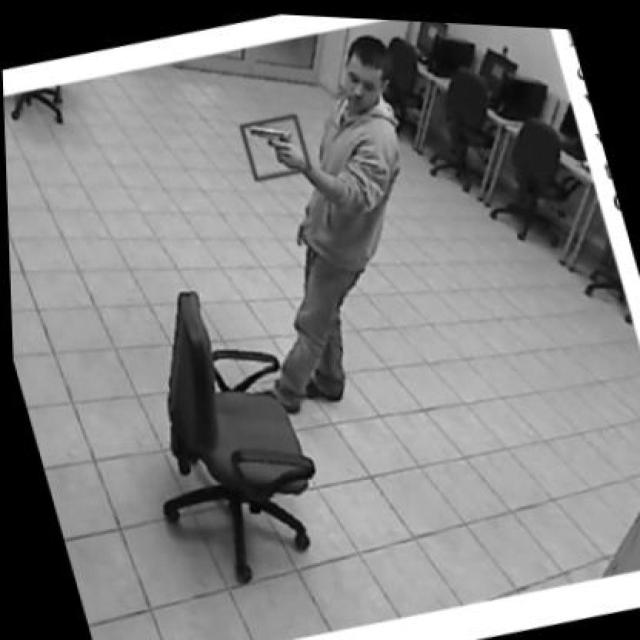weapon: (248, 121, 298, 168)
